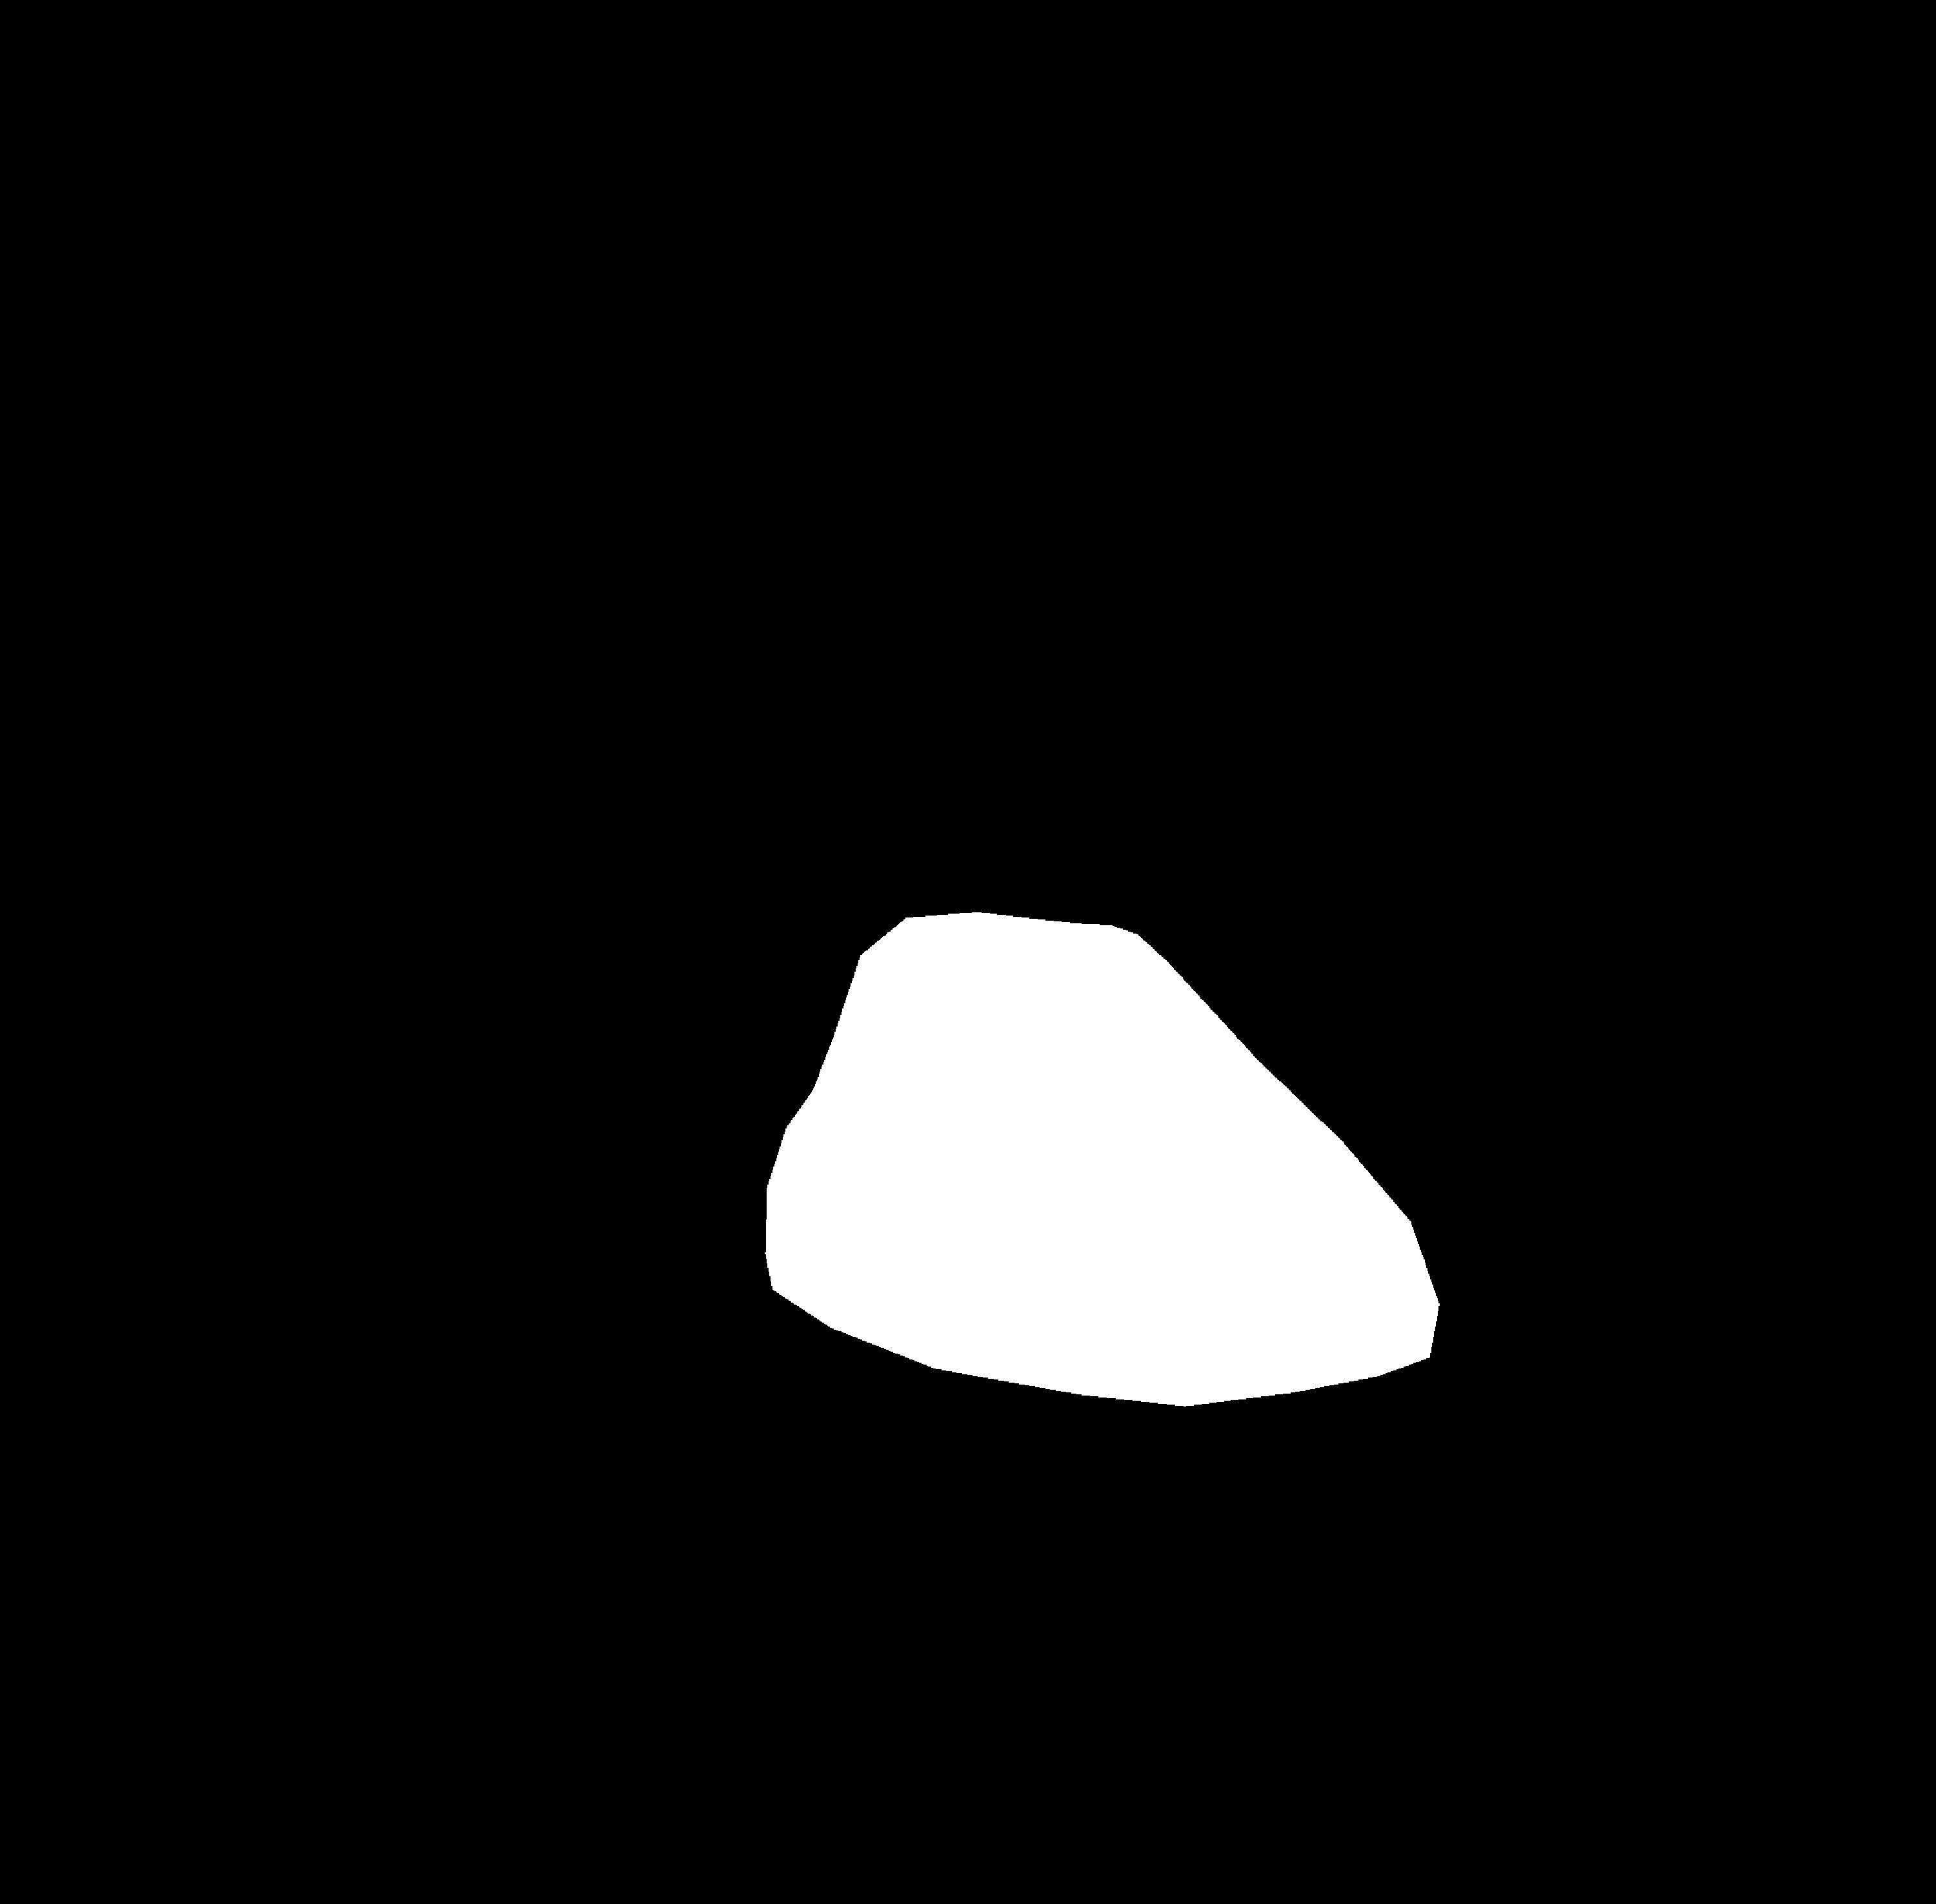heart: (748, 1032, 1444, 1477)
left_lung: (310, 473, 896, 1449)
right_lung: (1057, 385, 1587, 1512)
